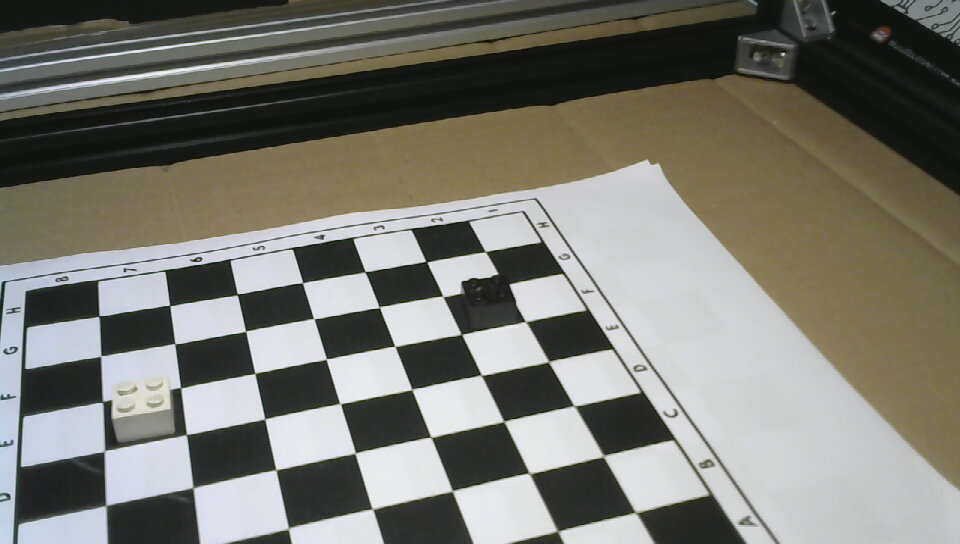bp: (452, 271, 521, 328)
